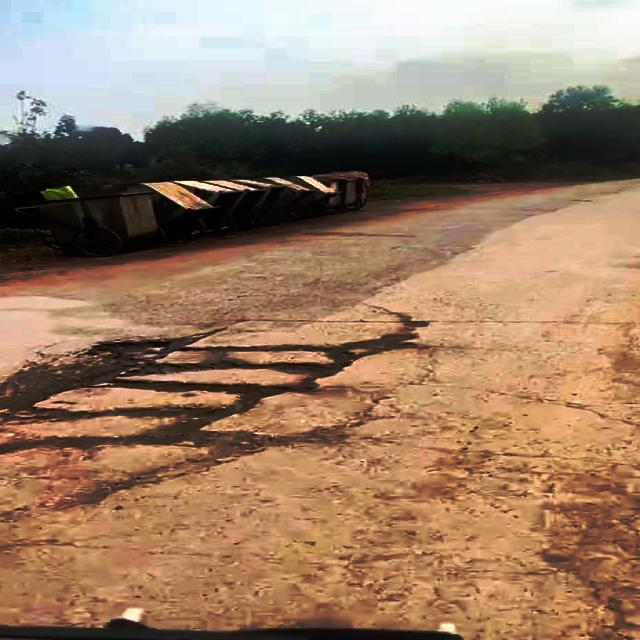pothole: (0, 316, 432, 450)
